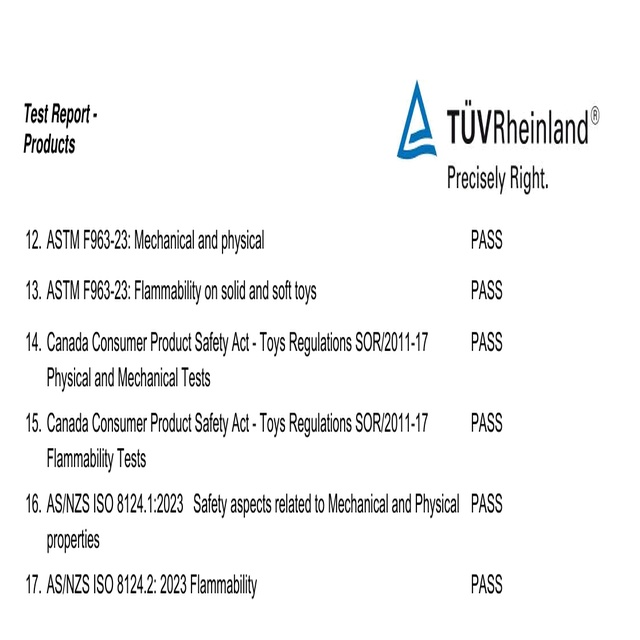tuv_rheinland: (392, 82, 605, 161)
